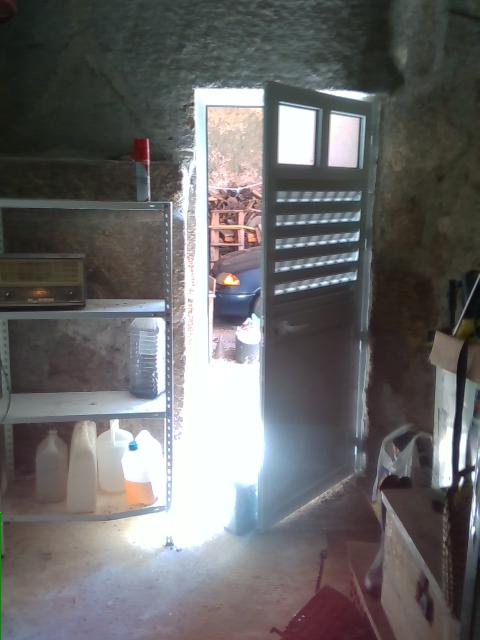semi_door: (191, 79, 382, 541)
